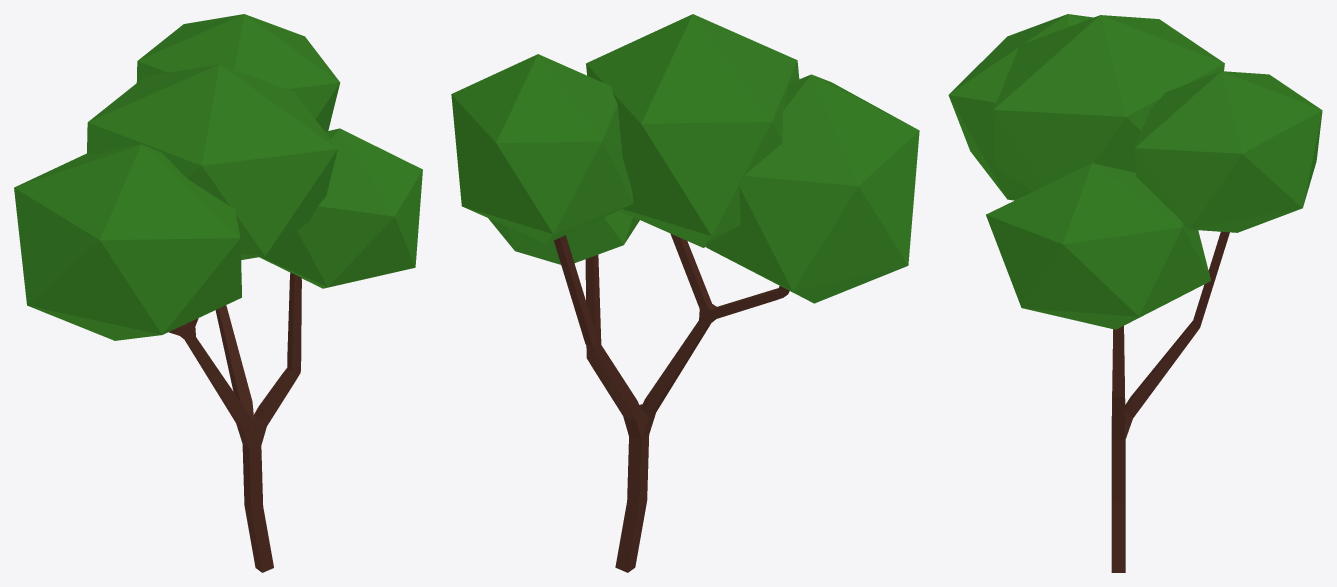
Rendered from Normal_Tree.gltf.
The picture shows the model from 3 angles, left to right: view 1: azimuth 30°, elevation 25°; view 2: azimuth 150°, elevation 25°; view 3: azimuth 270°, elevation 25°; orthographic projection. The views are drawn at different scales.
Visible parts, largest first — view 1: Trunk; view 2: Trunk; view 3: Trunk.
Boxes of the visible parts, bbox=[...] form: Trunk: bbox=[14, 14, 422, 572]; Trunk: bbox=[451, 14, 919, 572]; Trunk: bbox=[948, 14, 1322, 572].
Size of the model in its own units: 5.15 by 6.76 by 4.32.
1 material, 1 textured.
